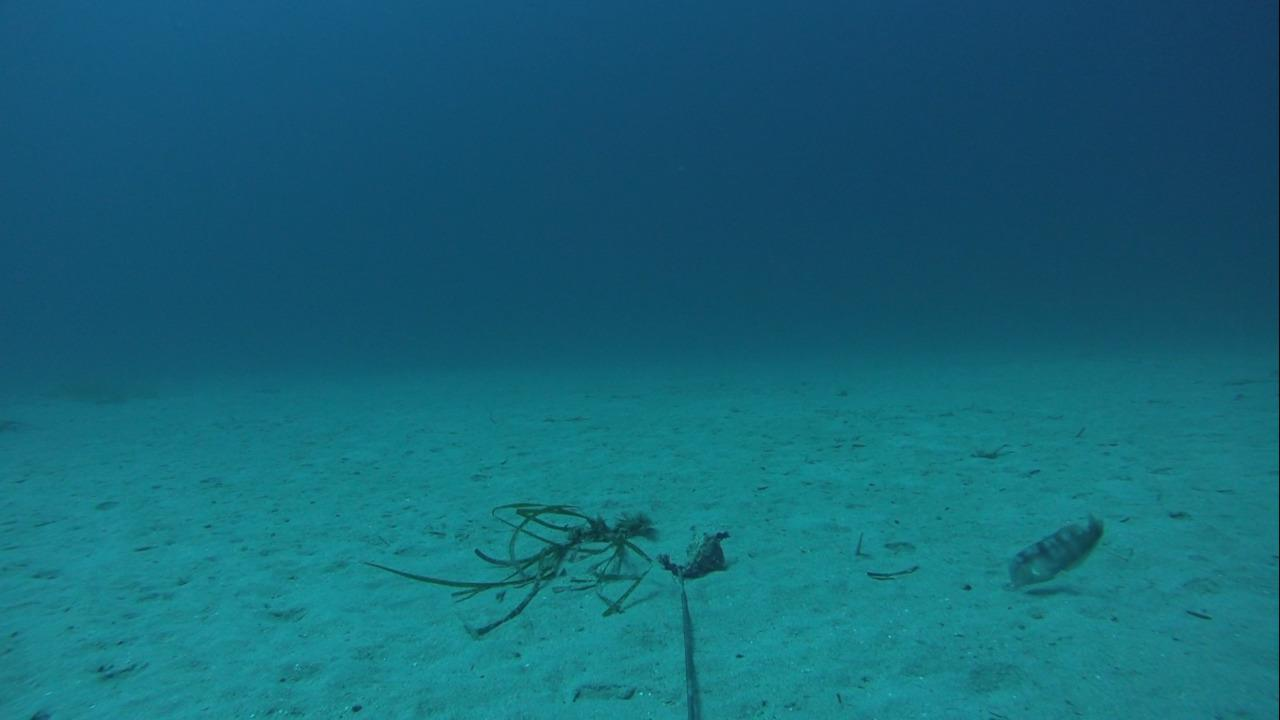raor: (1007, 511, 1108, 590)
